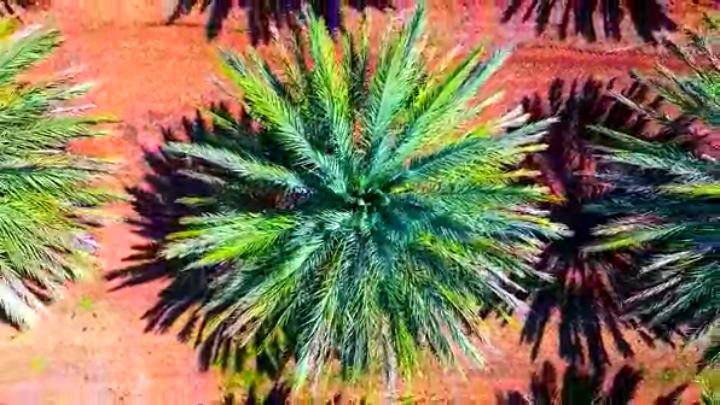Date-Palm-Crown: (242, 89, 466, 310), (0, 62, 50, 334), (668, 75, 720, 304)
